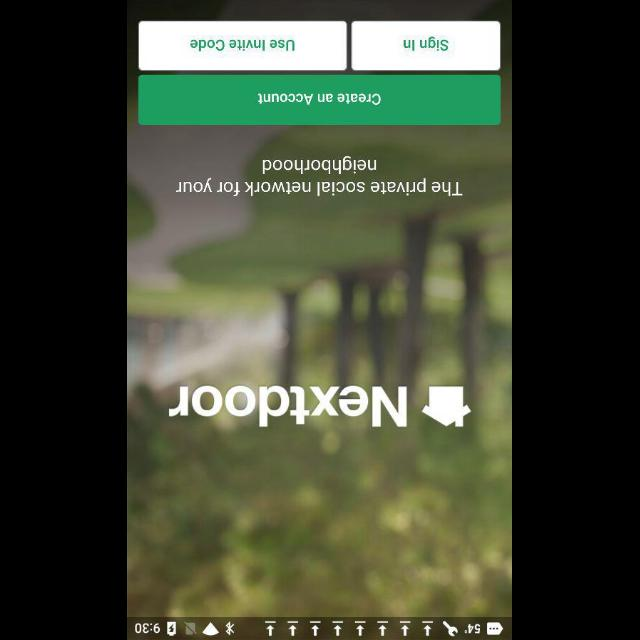backgroundimage: (128, 0, 512, 616)
icon: (422, 385, 472, 427)
text: (176, 155, 464, 197), (169, 383, 409, 427)
textbutton: (139, 75, 501, 125), (138, 20, 348, 70), (351, 21, 501, 70)
uppertaskbar: (128, 617, 512, 639)
